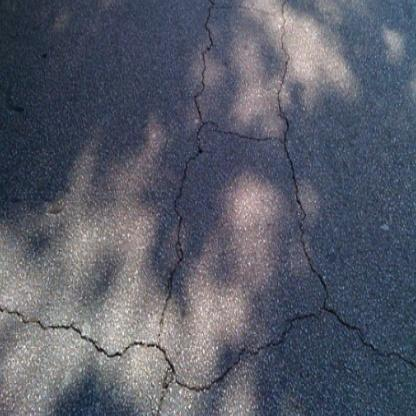Cracks: (0, 0, 416, 416), (158, 0, 277, 330)
